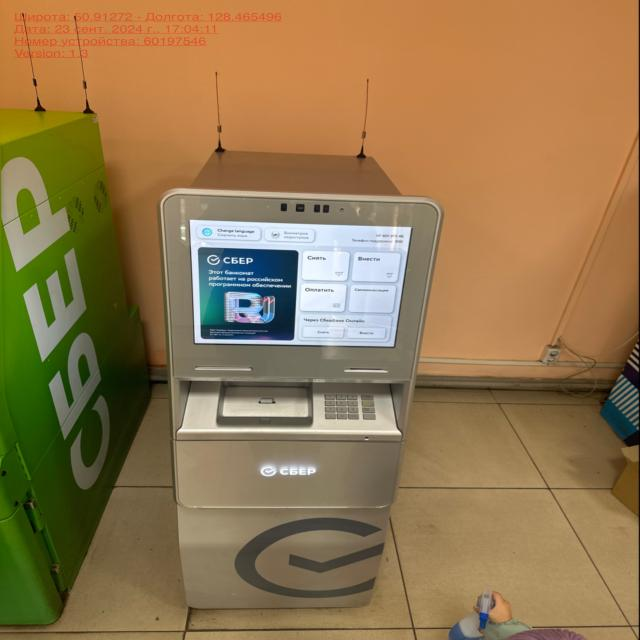bank: (162, 148, 443, 609), (0, 105, 152, 628)
